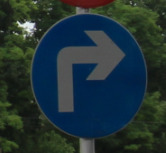right_turn: (29, 13, 148, 139)
